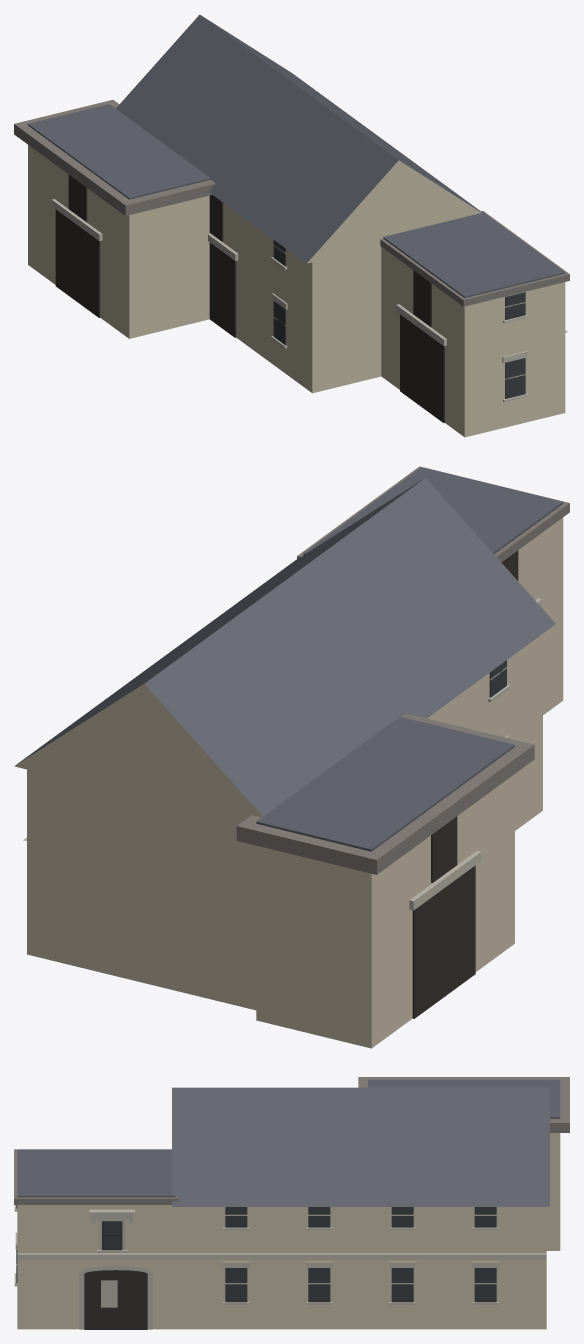
Rendered from doane_house_1827_prairie_coach_house__draft_1904.glb.
3 renders of one model, top to bottom at view 1: azimuth 30°, elevation 25°; view 2: azimuth 150°, elevation 25°; view 3: azimuth 270°, elevation 25°, orthographic. The views are drawn at different scales.
Visible parts, largest first — view 1: doane_house_1827_prairie_coach_house__draft_1904; view 2: doane_house_1827_prairie_coach_house__draft_1904; view 3: doane_house_1827_prairie_coach_house__draft_1904.
Part boxes in pixels (x1,y1,x2,y2): doane_house_1827_prairie_coach_house__draft_1904: [14, 14, 569, 437]; doane_house_1827_prairie_coach_house__draft_1904: [14, 466, 569, 1048]; doane_house_1827_prairie_coach_house__draft_1904: [14, 1077, 569, 1329].
Size of the model in its own units: 10.65 by 8.13 by 20.22.
